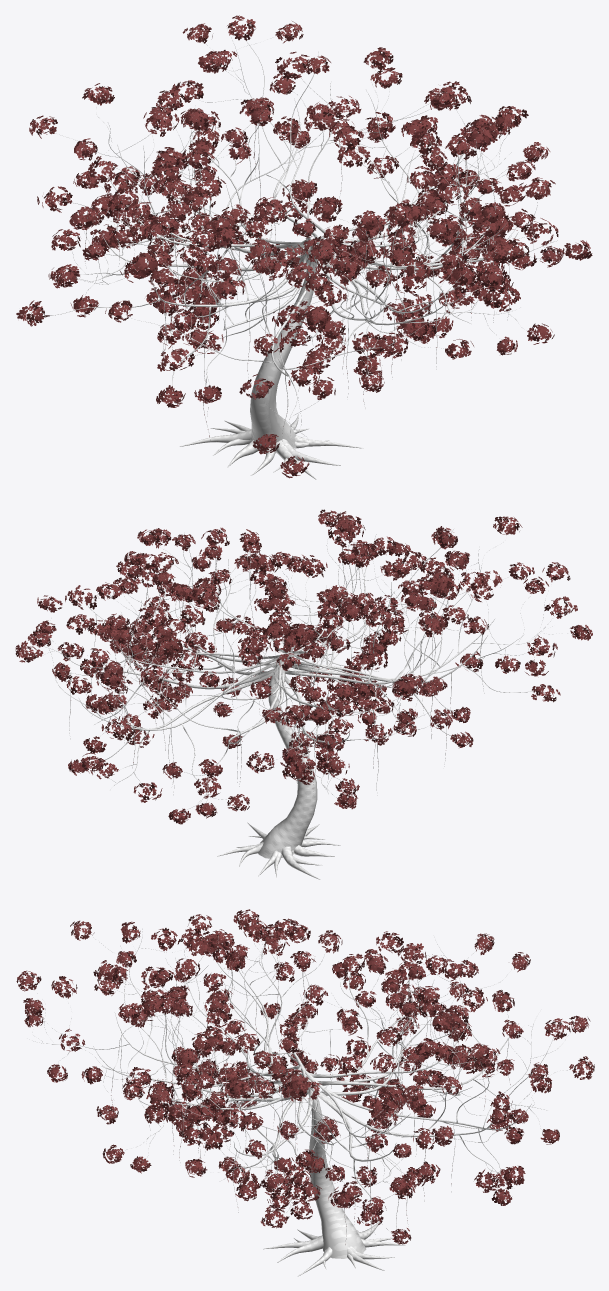
The model's file is tree.gltf.
3 renders of one model, top to bottom at view 1: azimuth 30°, elevation 25°; view 2: azimuth 150°, elevation 25°; view 3: azimuth 270°, elevation 25°, orthographic. The views are drawn at different scales.
Visible parts, largest first — view 1: Tree_LOD0; view 2: Tree_LOD0; view 3: Tree_LOD0.
Part boxes in pixels (x1,y1,x2,y2): Tree_LOD0: (16, 15, 592, 479); Tree_LOD0: (15, 509, 592, 879); Tree_LOD0: (16, 909, 594, 1276).
Bounding box in the file's own units: 249 × 135 × 254.
2 materials, 2 textured.
